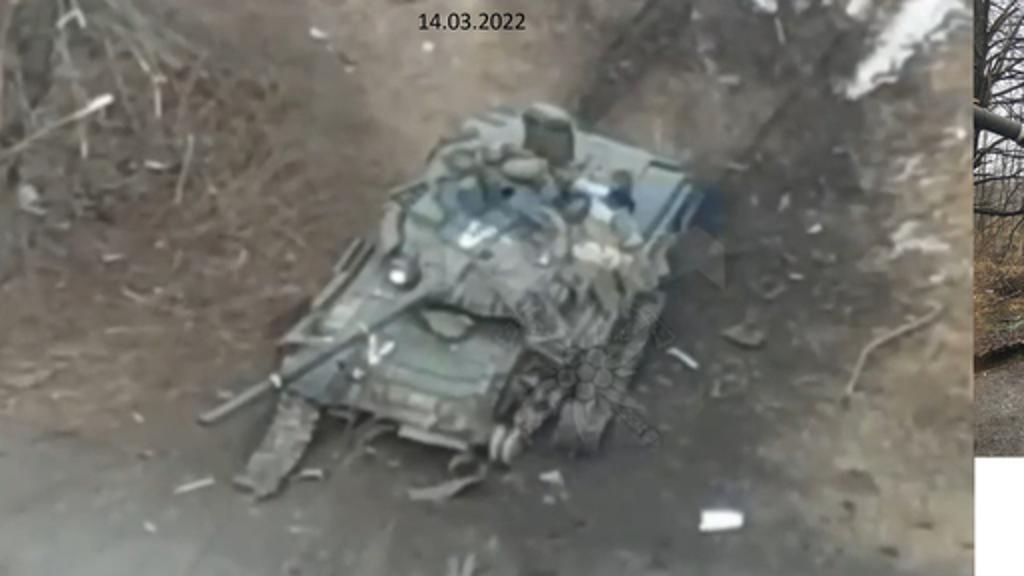TANK: (196, 94, 698, 502)
